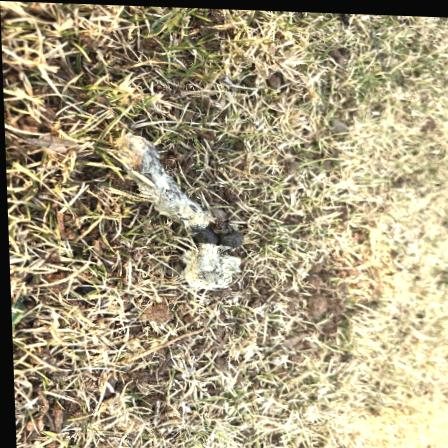dog-poop: (112, 118, 247, 289)
